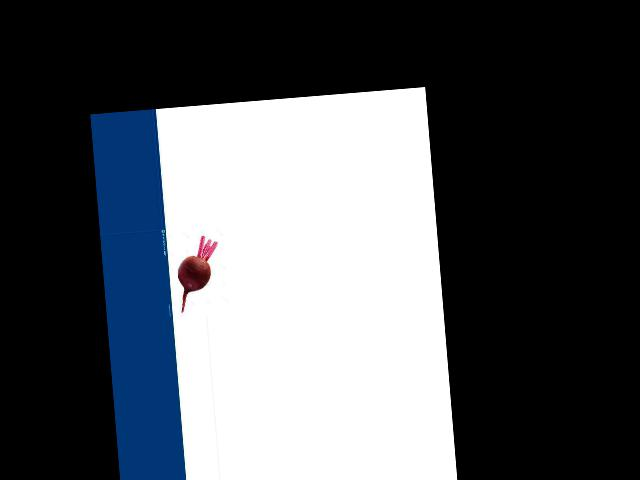beet: (175, 235, 222, 312)
